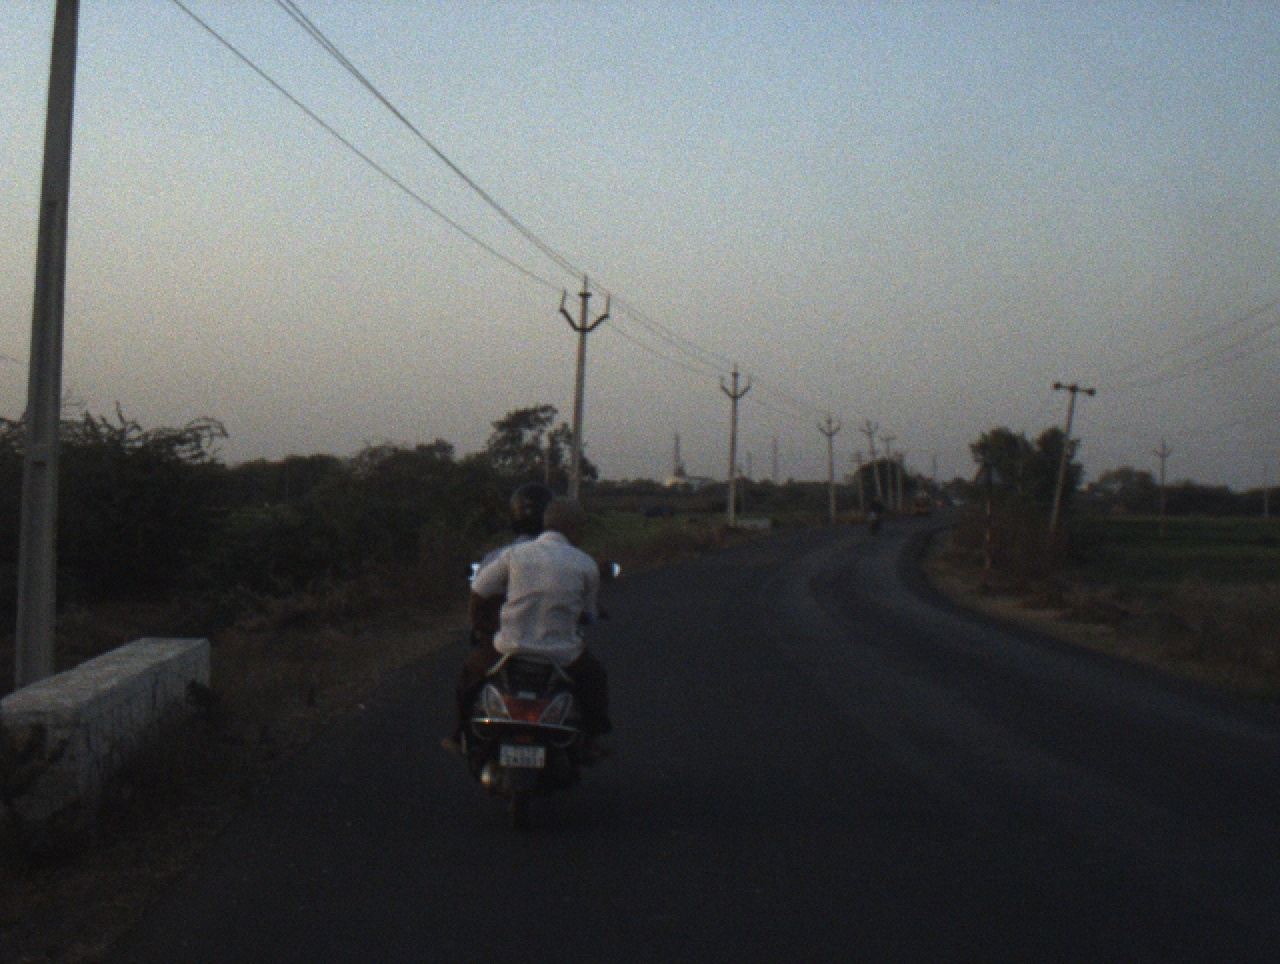autorickshaw: (904, 484, 933, 522)
motorcycle: (448, 562, 627, 833), (862, 513, 881, 533)
rider: (437, 496, 622, 788), (469, 483, 562, 588), (863, 492, 883, 527)
